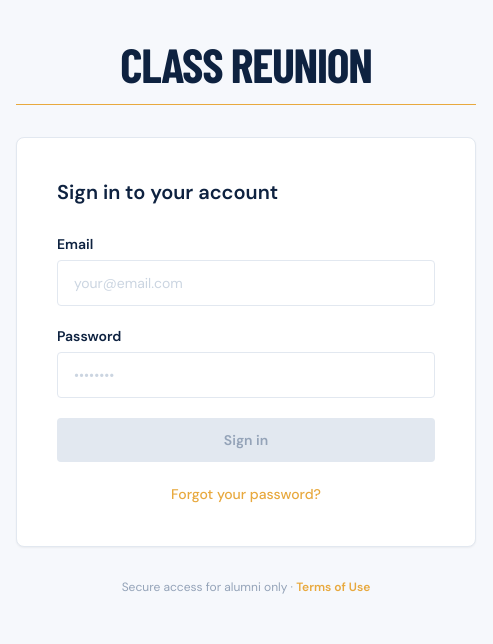
it: Login Component › should display error message on failed login
Type "test@example.com" into the field with placeholder "your@email.com".
click(246, 282); type("test@example.com")  # box [57,260,435,306]
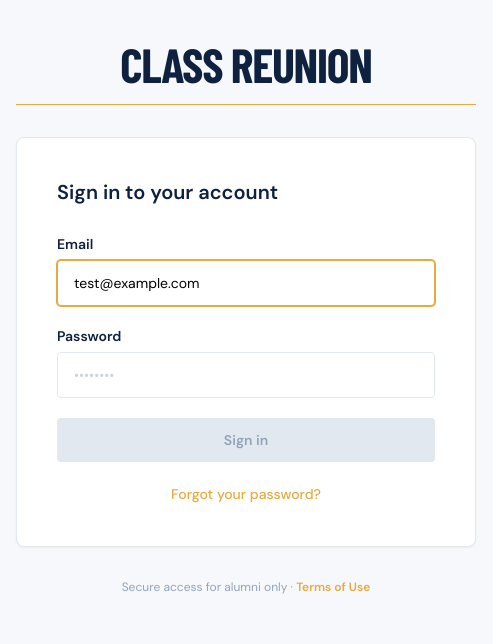
Type "wrong" into the password field with placeholder "••••••••".
click(246, 374); type("wrong")  # box [57,352,435,398]
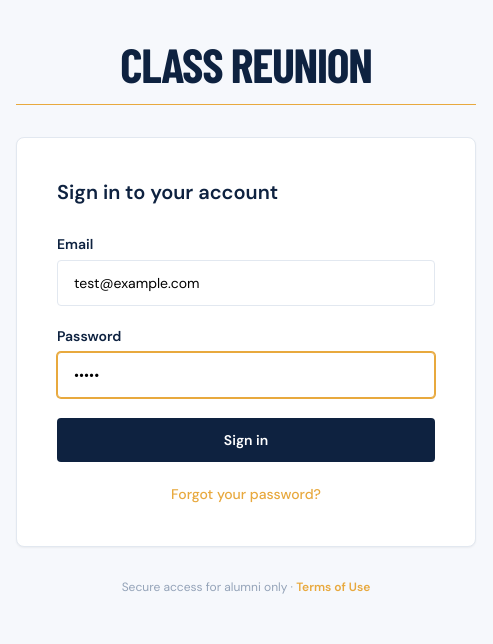
Click the button "Sign in".
click(246, 440)  # box [57,418,435,462]
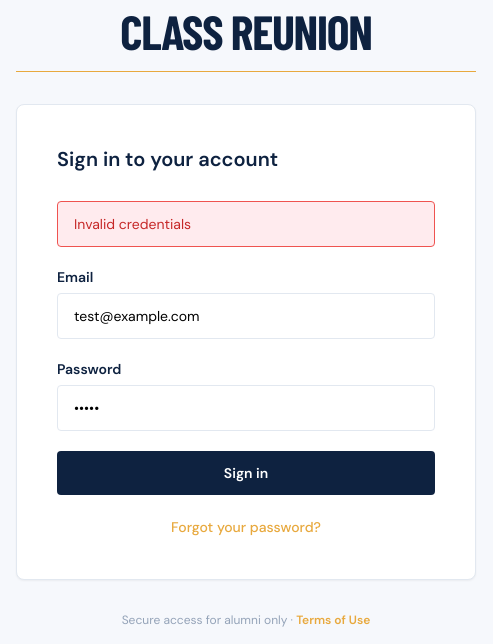
Expected: the text "Invalid credentials" is shown, [57,200,435,246]
